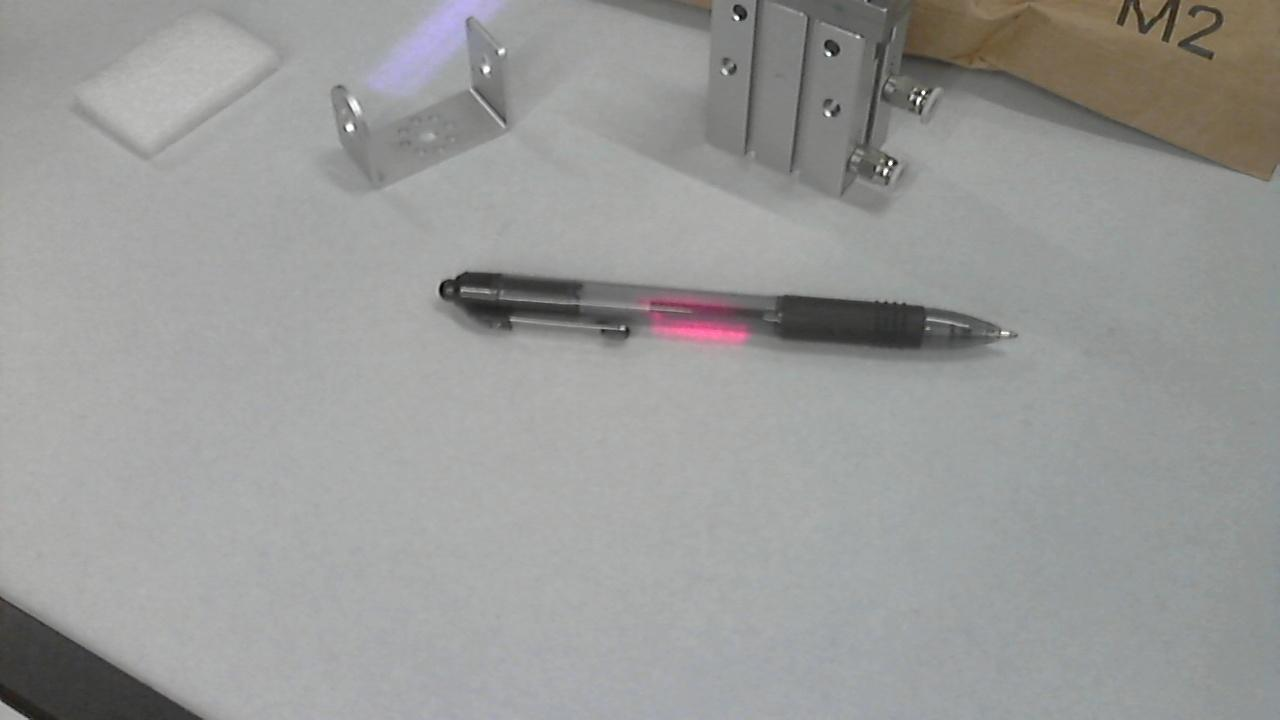Object retractable gel pen - Material plastic- Pdfname asdasdaswe: (639, 270, 758, 340)
